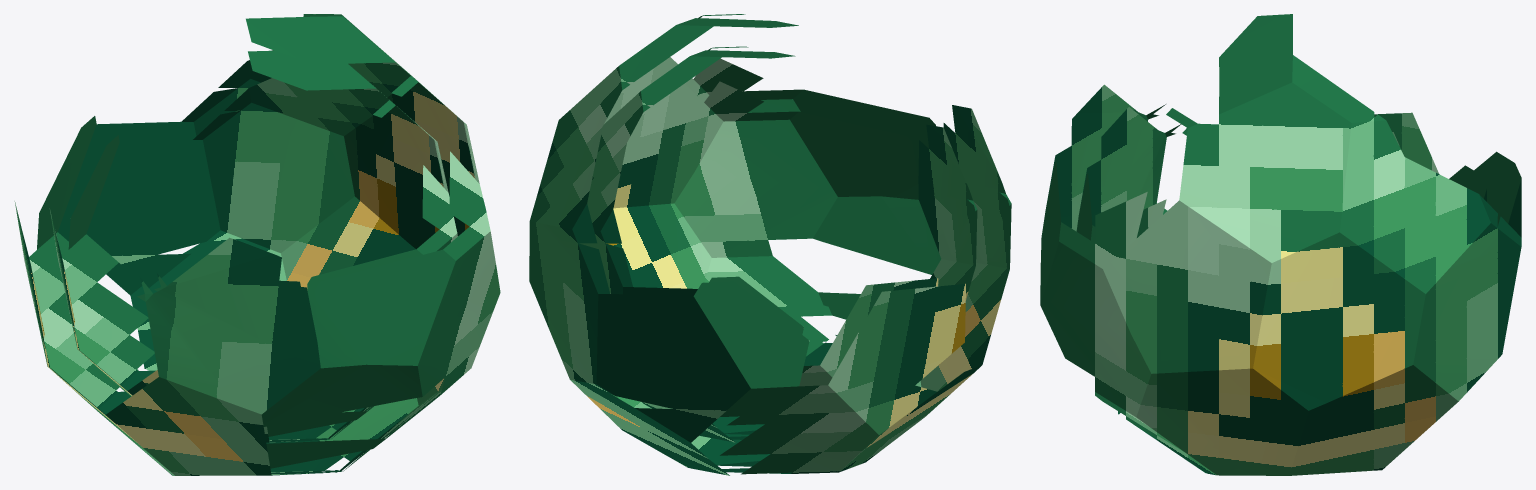
Rendered from delta_orb_5.obj.
The picture shows the model from 3 angles, left to right: view 1: azimuth 30°, elevation 25°; view 2: azimuth 150°, elevation 25°; view 3: azimuth 270°, elevation 25°; orthographic projection.
Parts seen in each view (by area): view 1: pSolid4; view 2: pSolid4; view 3: pSolid4.
Boxes of the visible parts, x1,y1,x2,y2 form: pSolid4: (14, 14, 500, 475); pSolid4: (529, 14, 1011, 475); pSolid4: (1040, 14, 1521, 475).
Bounding box in the file's own units: 0.8452 × 0.8539 × 0.8248.
